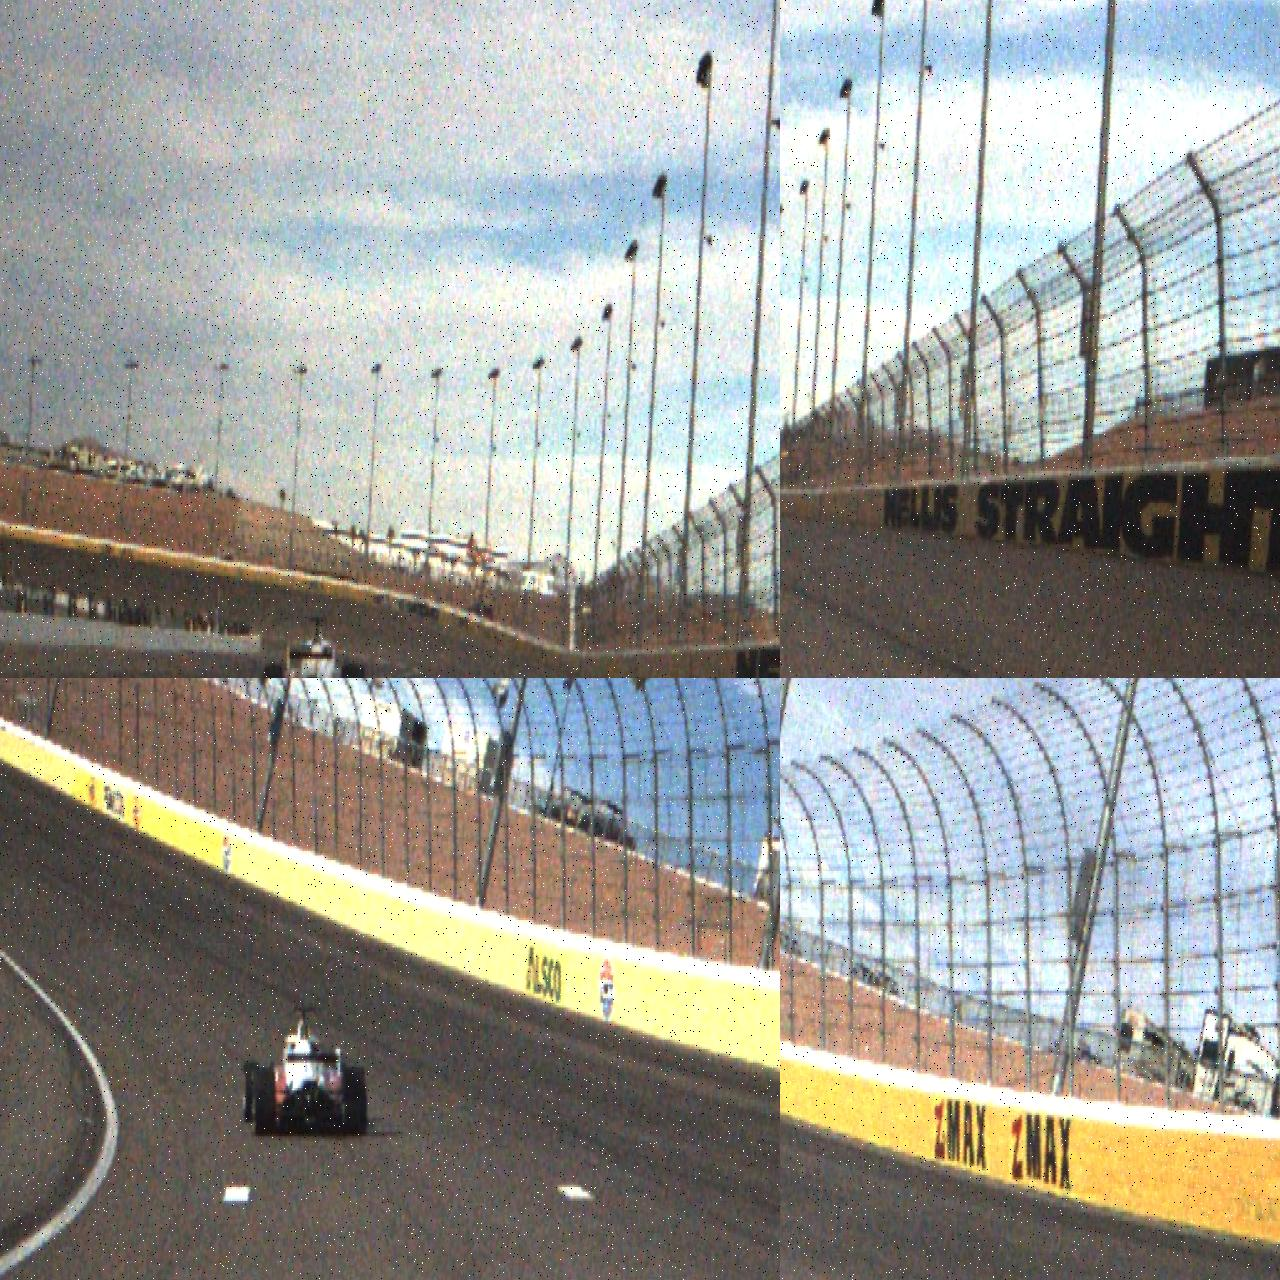AV: (243, 1005, 368, 1139), (263, 614, 369, 678)
Wheel: (343, 1067, 367, 1137), (252, 1067, 274, 1137), (243, 1061, 259, 1123), (341, 663, 361, 678), (264, 665, 284, 678)
